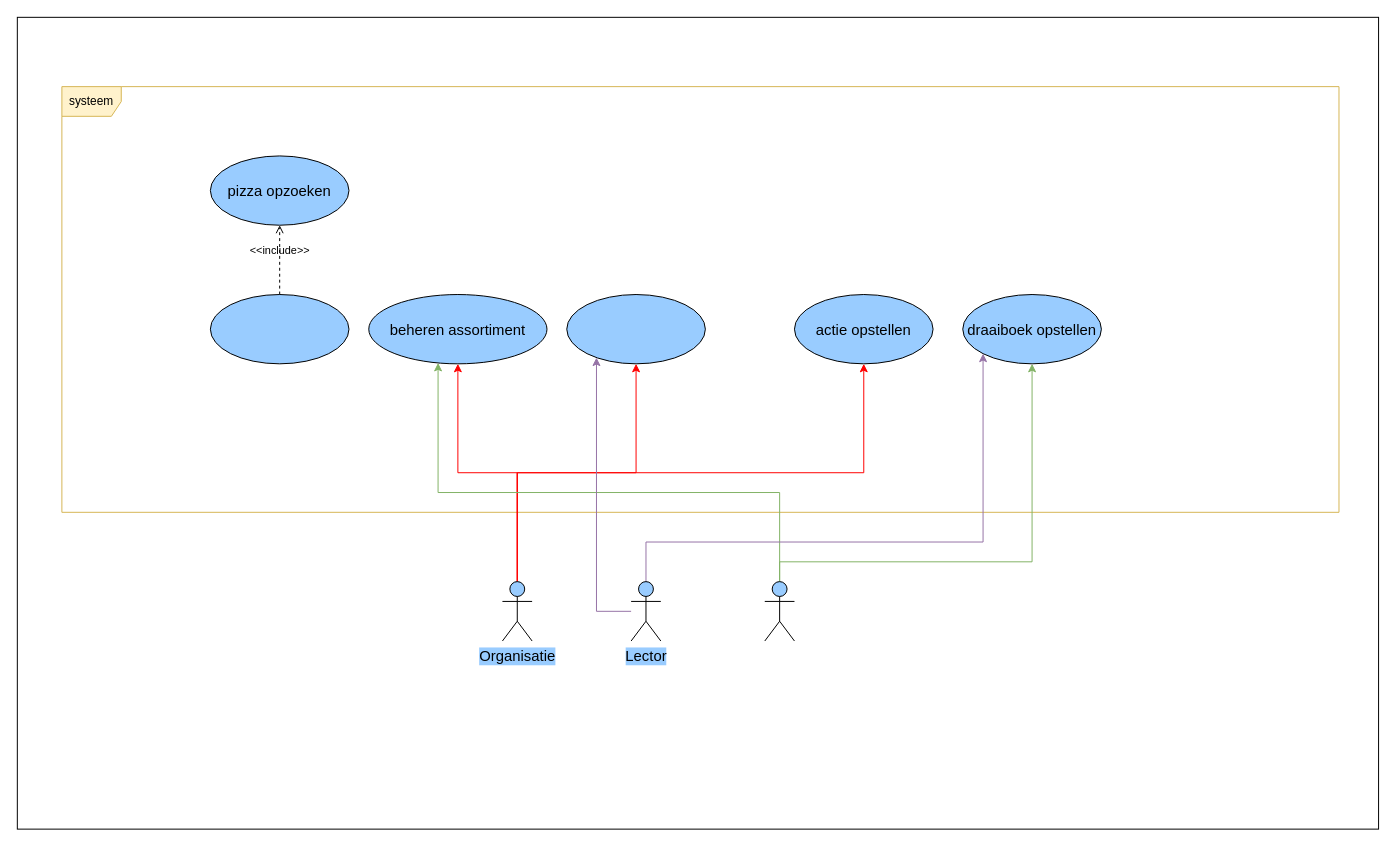
Image size: 1396x846. Some labels were removed from this diagram. Here are the shapes that lost their labels. From the top down, the box of each, then its label:
(209, 294, 349, 364): pizza bestellen
(566, 294, 705, 364): nomineren gb-groep
(764, 581, 794, 641): Cursist
